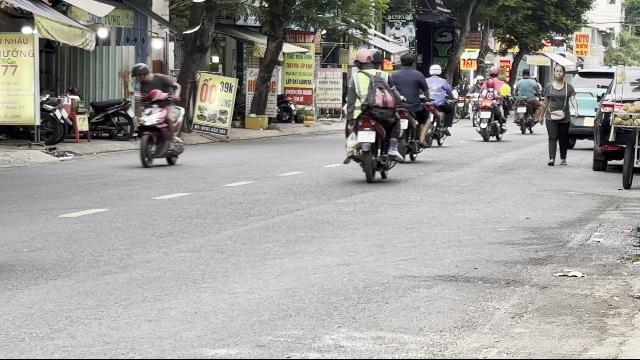helmet: (354, 48, 374, 70), (132, 63, 152, 83), (368, 48, 382, 68)
licenseplate: (357, 130, 375, 142)
motorcyclist: (339, 46, 397, 182), (131, 62, 187, 168)
